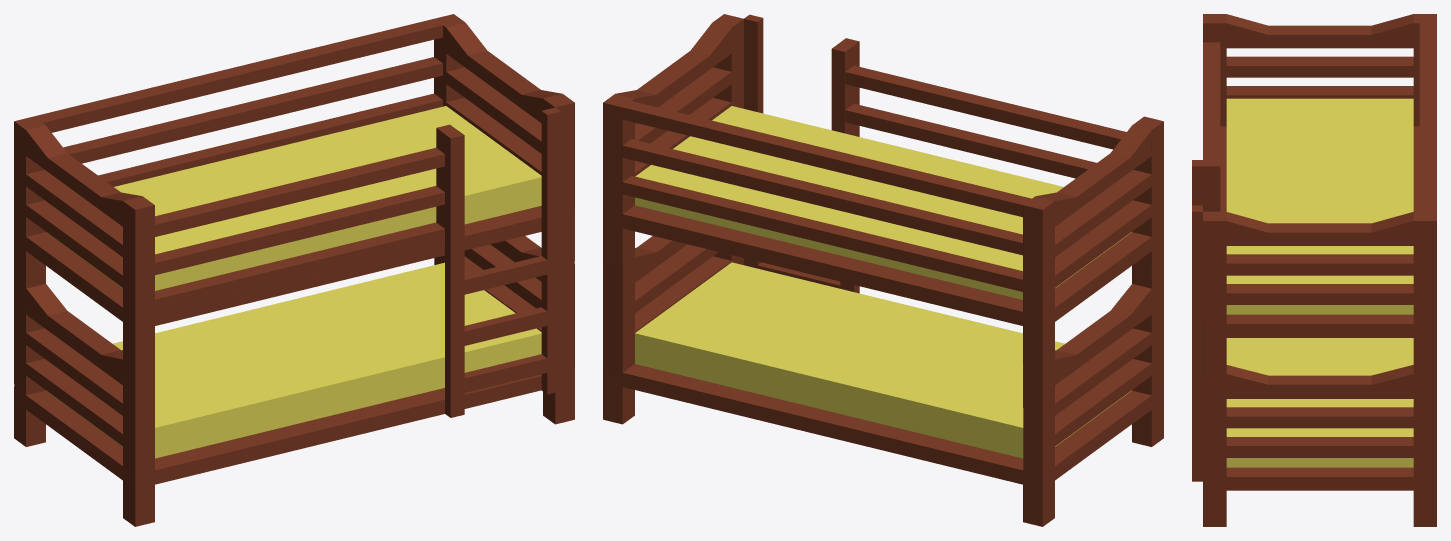
Rendered from LitSuperpose.fbx.
3 views of the same model, side by side, from view 1: azimuth 30°, elevation 25°; view 2: azimuth 150°, elevation 25°; view 3: azimuth 270°, elevation 25° (orthographic). The views are drawn at different scales.
Visible parts, largest first — view 1: LitSuperpose; view 2: LitSuperpose; view 3: LitSuperpose.
Boxes of the visible parts, box(x1,y1,x2,y2) form: LitSuperpose: box(14, 14, 574, 526); LitSuperpose: box(603, 14, 1163, 526); LitSuperpose: box(1192, 14, 1436, 526).
Size of the model in its own units: 726 by 500 by 363.
